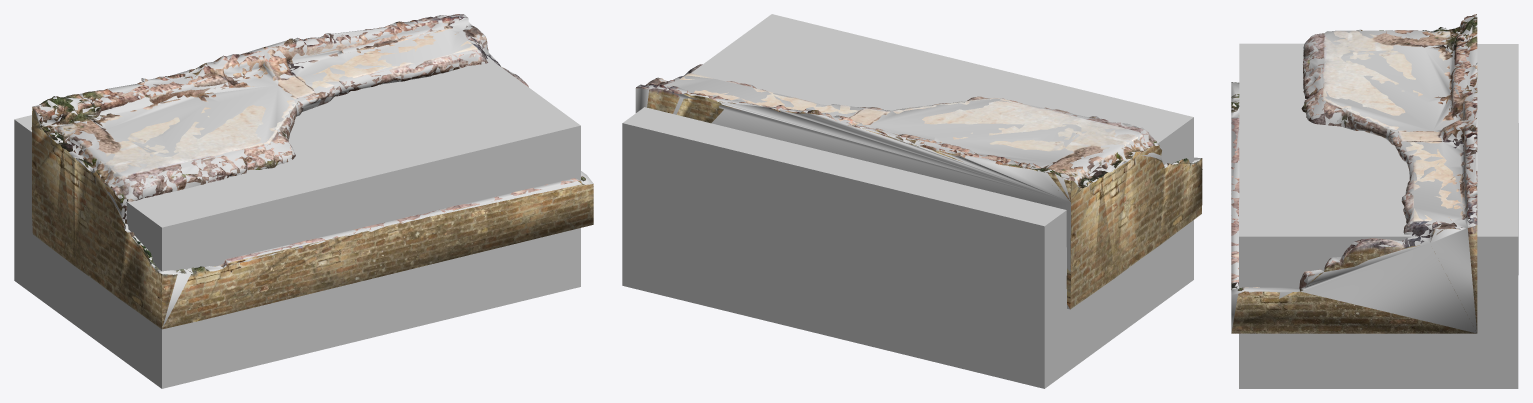
Rendered from cisterna.glb.
The picture shows the model from 3 angles, left to right: view 1: azimuth 30°, elevation 25°; view 2: azimuth 150°, elevation 25°; view 3: azimuth 270°, elevation 25°; orthographic projection. The views are drawn at different scales.
Visible parts, largest first — view 1: cisterna_neg, cisterna, cisterna_col; view 2: cisterna_neg, cisterna, cisterna_col; view 3: cisterna_neg, cisterna_col, cisterna.
Boxes of the visible parts, box(x1,y1,x2,y2) form: cisterna_neg: box(14, 57, 580, 388); cisterna: box(31, 14, 593, 329); cisterna_col: box(31, 14, 593, 328); cisterna_neg: box(622, 14, 1193, 388); cisterna: box(636, 64, 1202, 309); cisterna_col: box(635, 71, 1201, 309); cisterna_neg: box(1239, 43, 1518, 388); cisterna_col: box(1231, 15, 1477, 333); cisterna: box(1231, 14, 1477, 333).
Size of the model in its own units: 22.26 by 9.74 by 13.57.
Materials: 4 (4 with a texture image).
